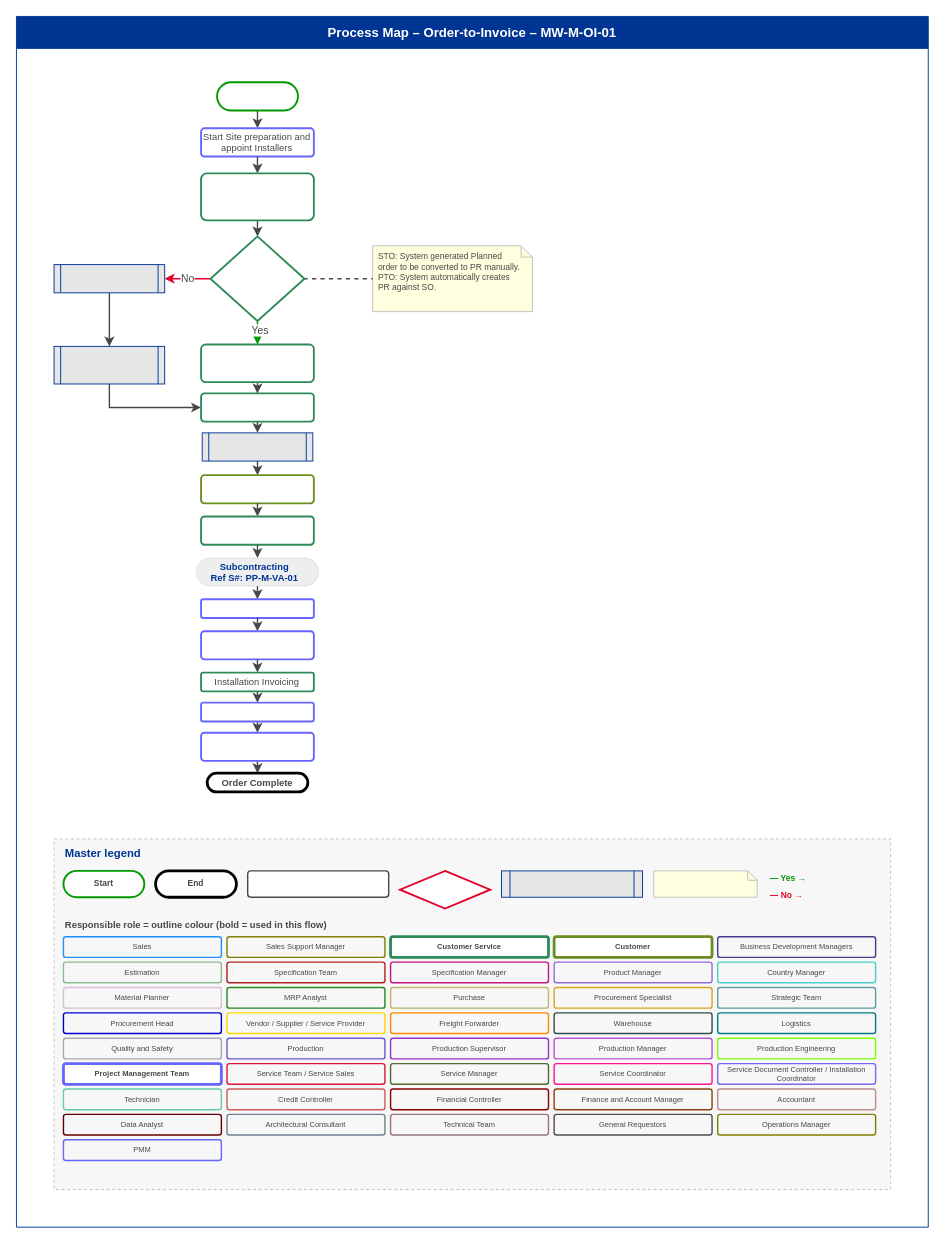
The diagram is 945 pixels wide and 1244 high, and some of its shapes have lost their labels. Here are the shapes that lost their labels. From the top down, the centre of each, then its label:
At point (257, 96): "Order-to-Invoice".
At point (257, 196): "Identify materials available in stock and list those that need to be purchased".
At point (109, 278): "PR Validation Ref: MW-S-PR-01".
At point (257, 278): "Stock Available?".
At point (109, 364): "PO Creation & Expedition Ref: MW-S-PE-01".
At point (257, 363): "Link Stock material to Order and process OB".
At point (257, 407): "Plan and Arrange Delivery to Customer".
At point (257, 446): "Revenue Recognition Ref: MW-S-RR-01".
At point (257, 489): "Material Delivery Confirmation".
At point (257, 530): "Invoicing Customer Against Delivery note".
At point (257, 608): "Commissioning".
At point (257, 645): "Installation Competition report".
At point (257, 711): "Project Handover".
At point (257, 746): "Retention payment collection".
At point (318, 884): "Activity (outline = role)".
At point (445, 889): "Decision".
At point (571, 883): "Linked process (Ref ID)".
At point (705, 883): "Note / checklist".
